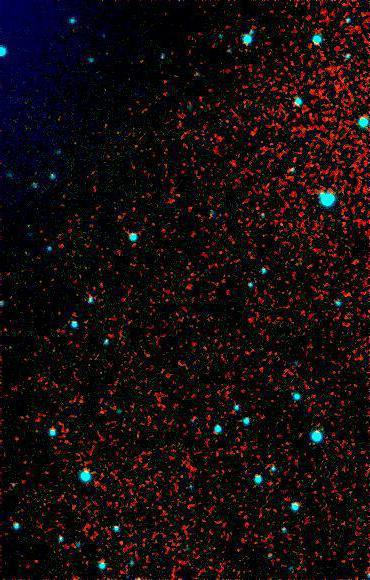star: (268, 210, 298, 240)
